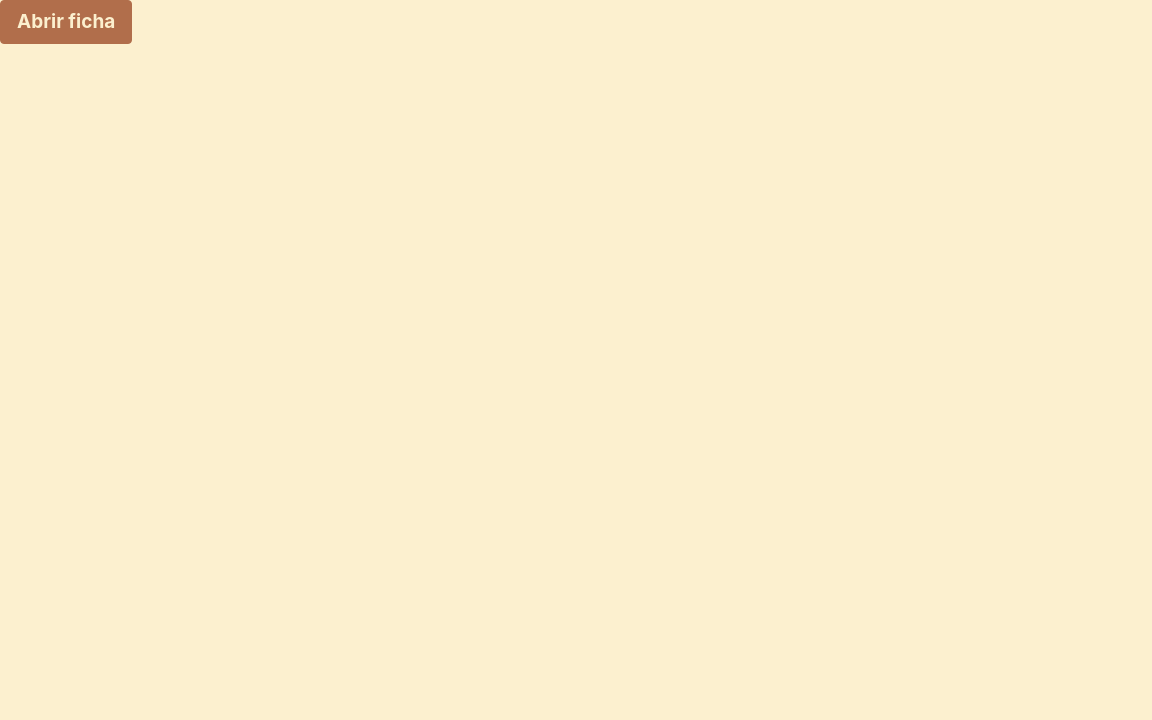
Test: Modal › atrapa Tab dentro y cierra con Escape devolviendo el foco
Click the button "Abrir ficha". click: coordinates (66, 22)
box: [0,0,132,44]
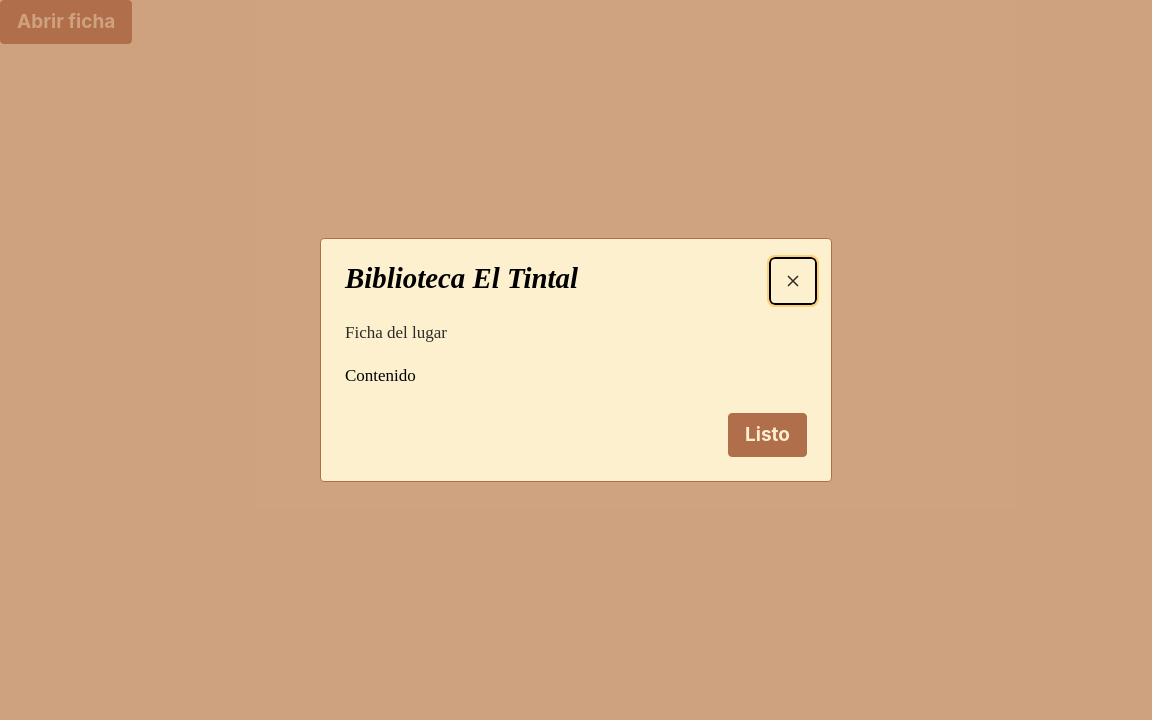
Press Tab
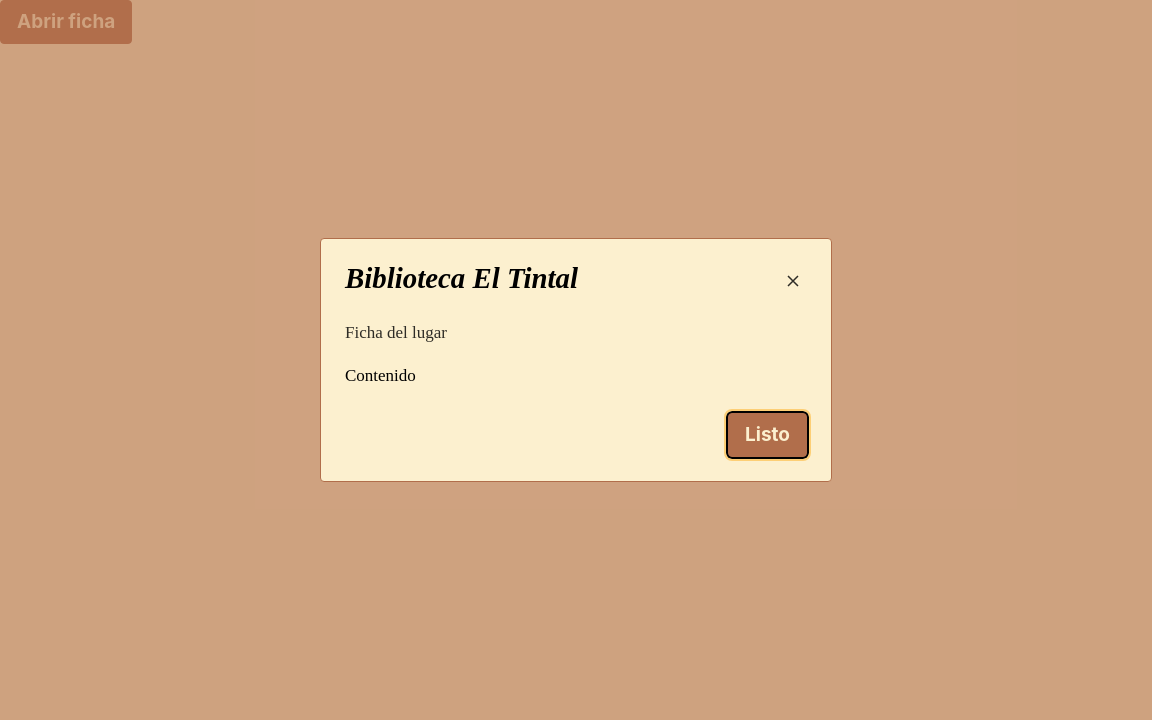
Press Tab
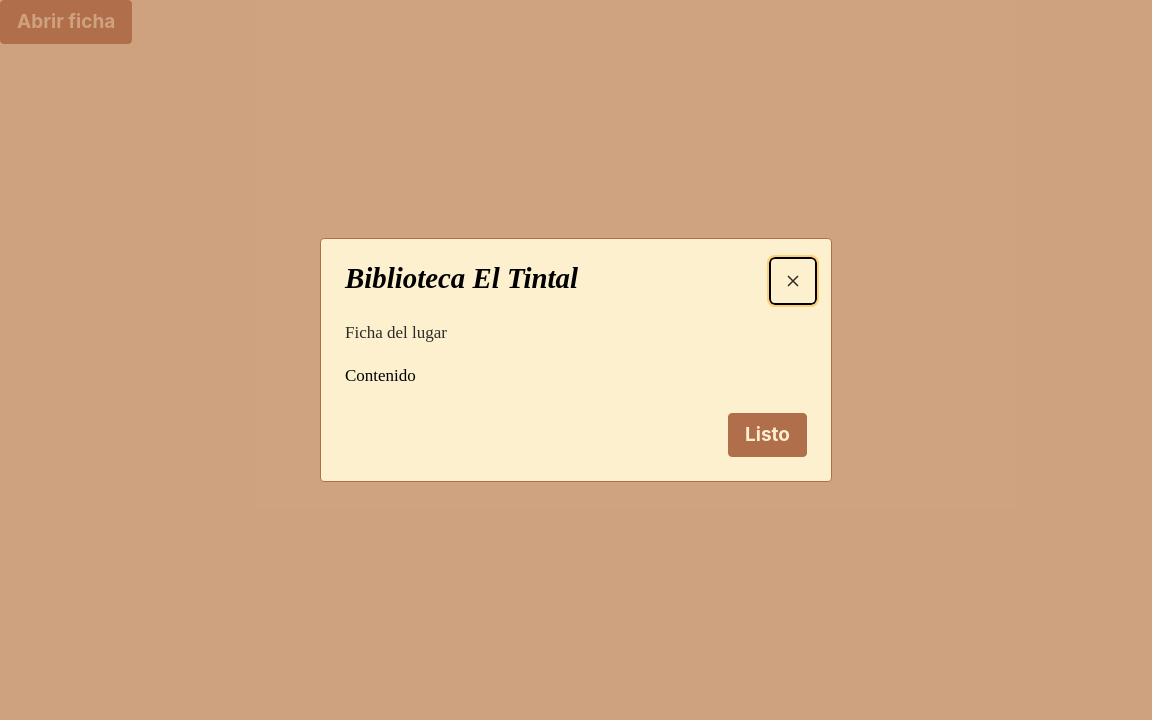
Press Escape
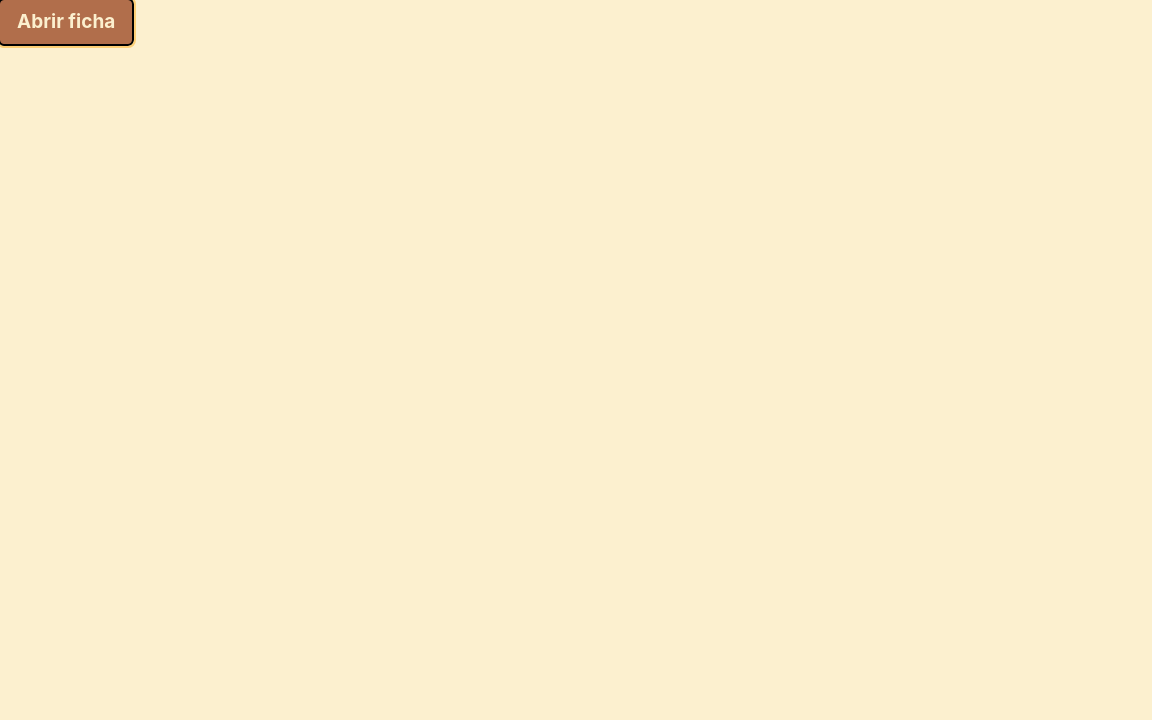
Check: the dialog is gone
